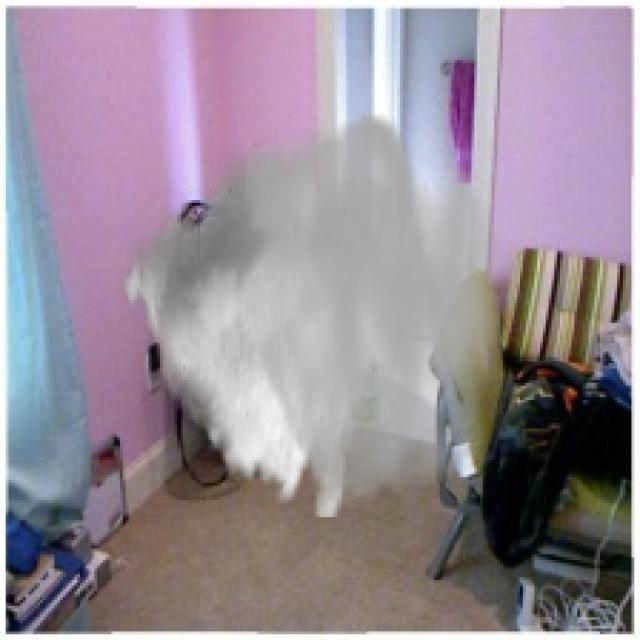Smoke: (120, 105, 506, 518)
